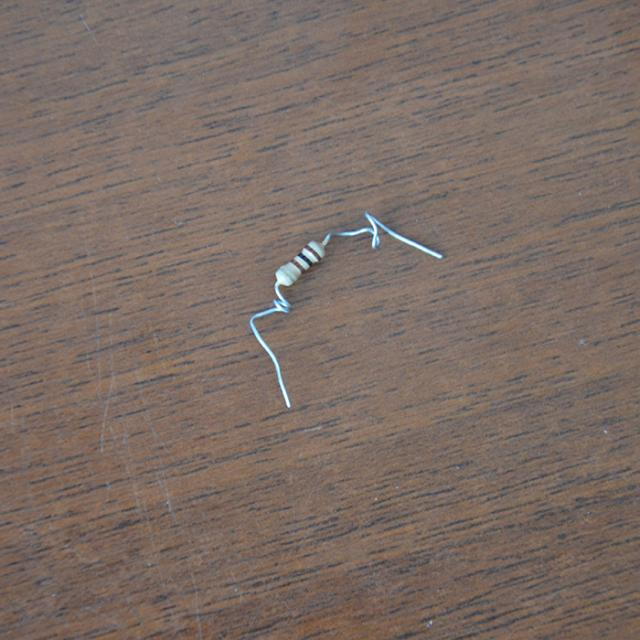Resistor Carbon-Film: (270, 239, 329, 291)
